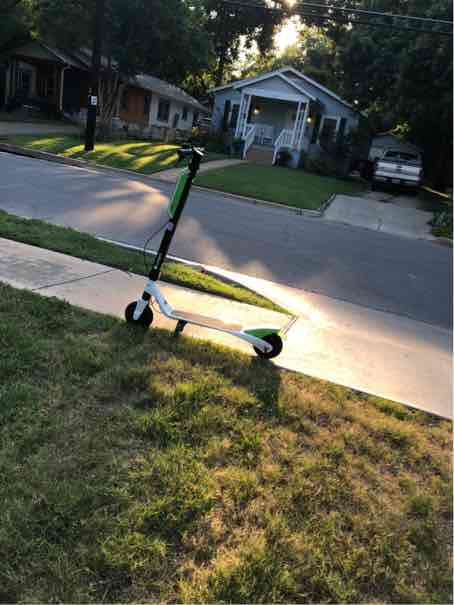scooter: (114, 136, 288, 361)
